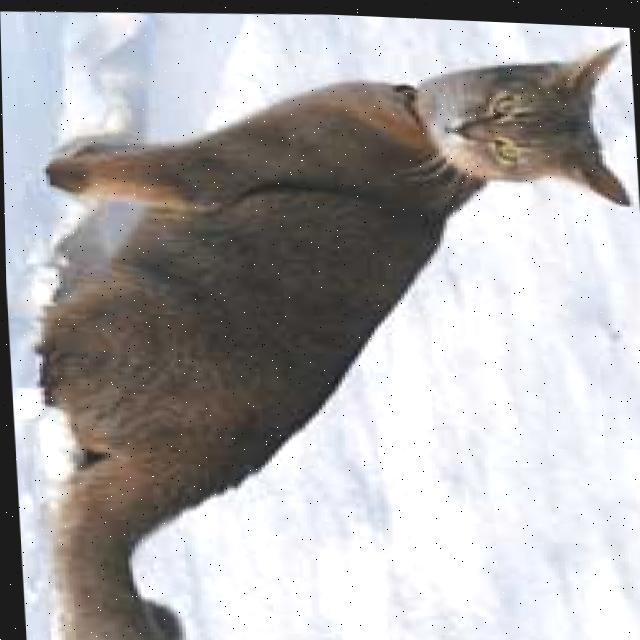Abyssinian: (8, 7, 640, 640)
